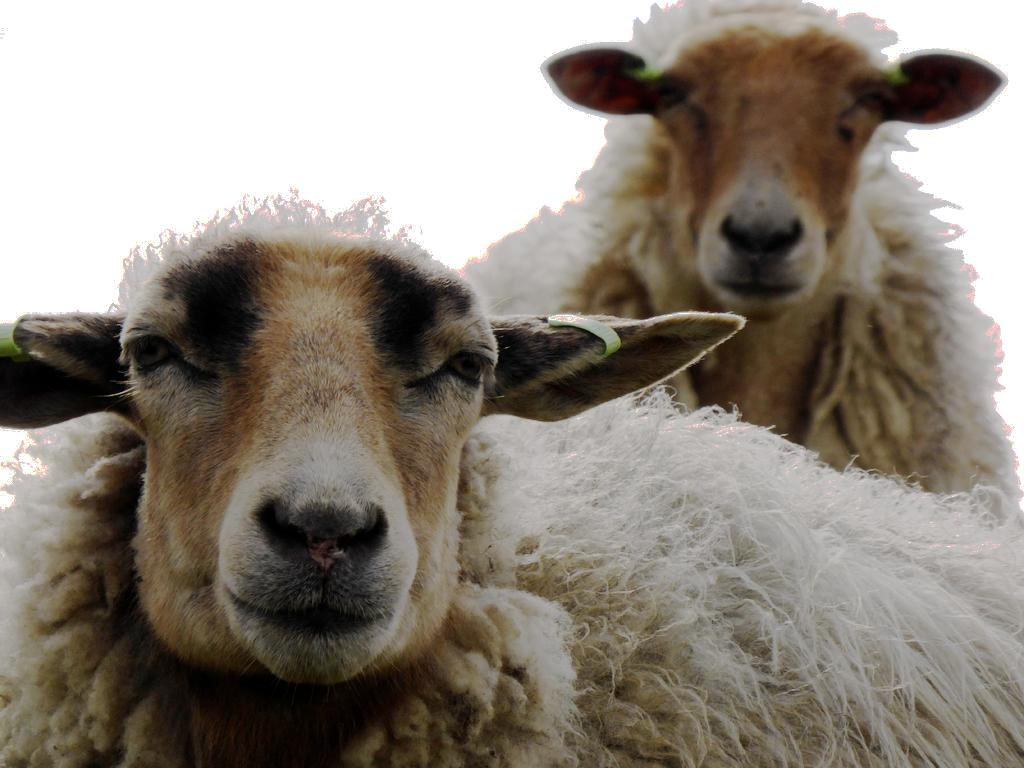Sheep: (0, 198, 1024, 768), (468, 0, 1018, 526), (706, 767, 706, 768)
